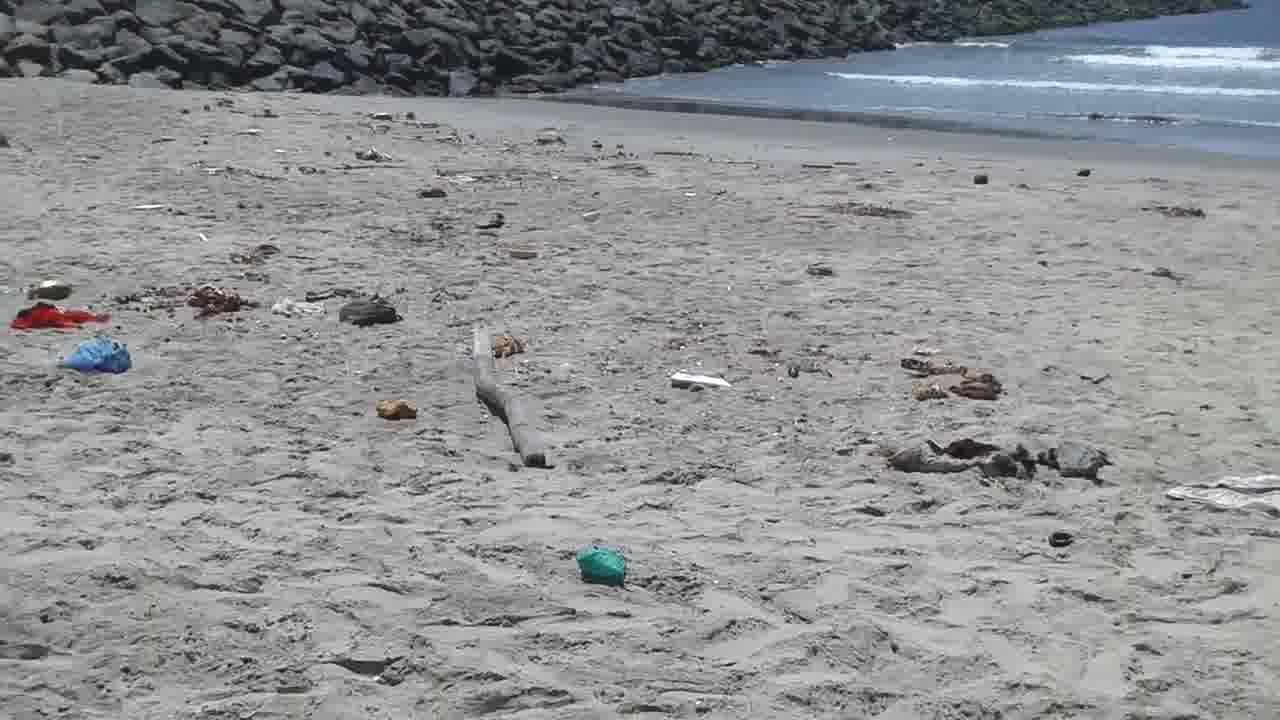obj: (470, 321, 547, 470), (888, 440, 1110, 481), (1166, 476, 1279, 525), (899, 362, 1002, 400), (141, 283, 256, 316), (50, 334, 127, 370), (14, 304, 106, 332), (332, 295, 401, 332), (577, 542, 628, 586), (668, 369, 732, 395), (371, 394, 418, 420), (274, 300, 322, 316), (435, 170, 476, 186), (372, 112, 391, 119)
sand/background: (0, 0, 1279, 190)
